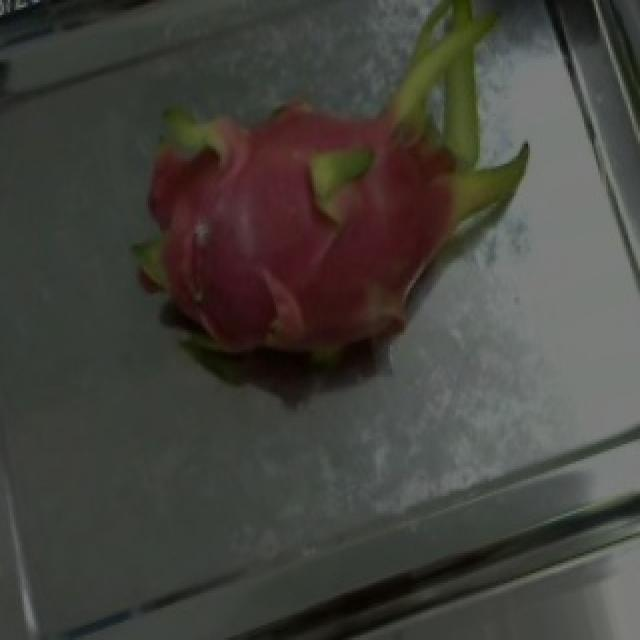fruit: (174, 0, 598, 427)
